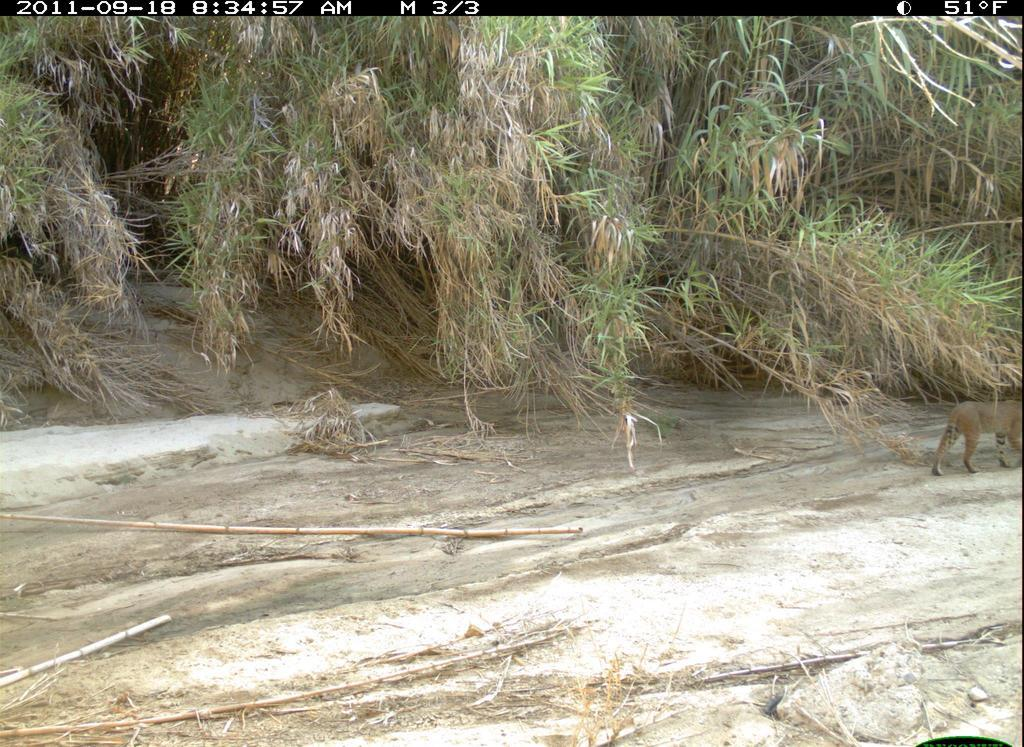bobcat: (927, 387, 1024, 486)
